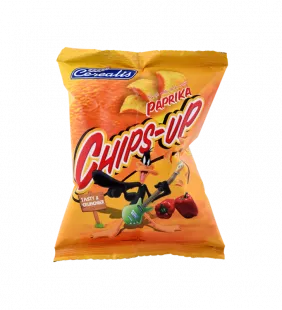CHIPS'UP: (43, 36, 237, 269)
